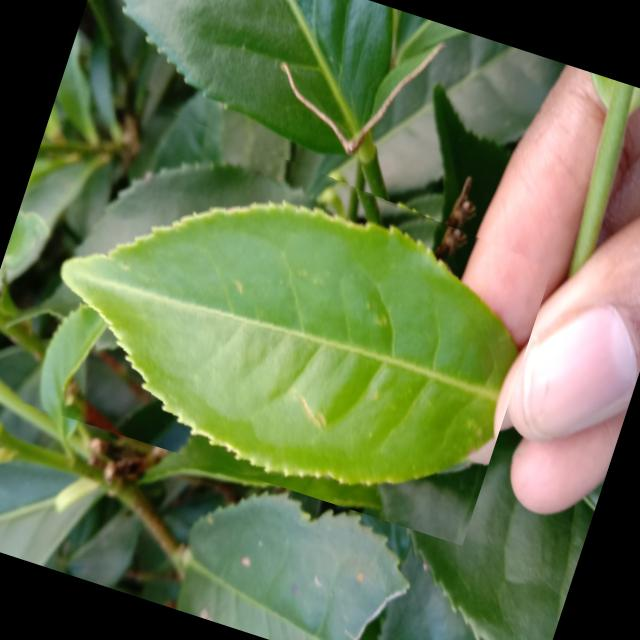Category C 4-7 days: (1, 83, 564, 545)
